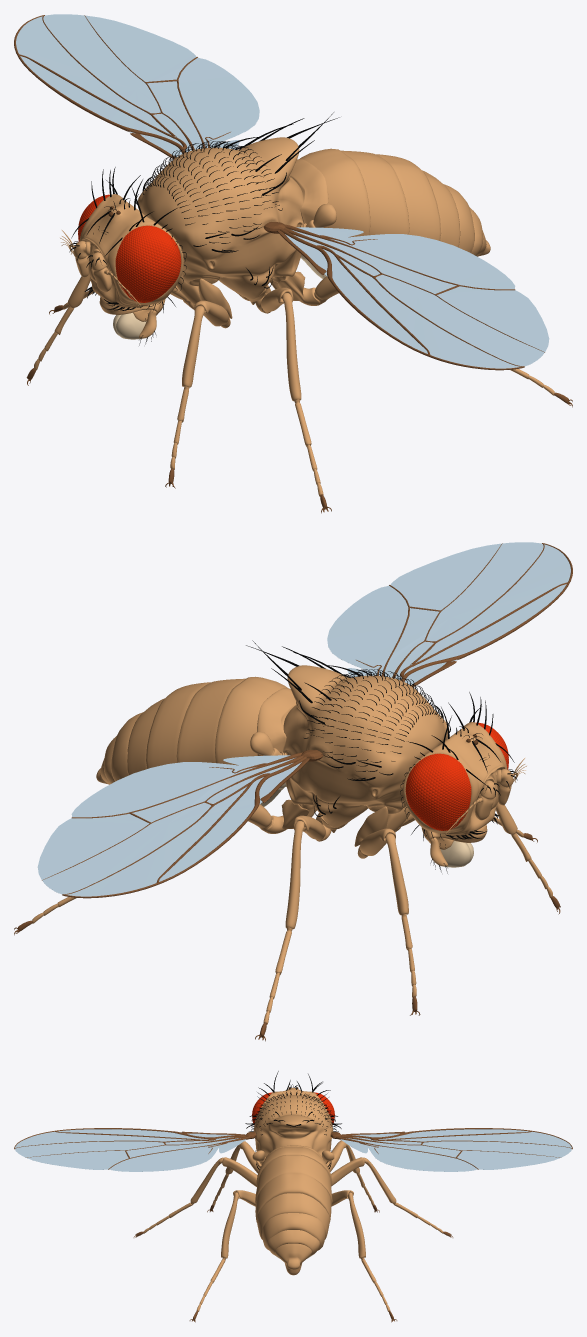
Rendered from flybody-articulated-presentation_4068d305.glb.
3 views of the same model, one above another, from view 1: azimuth 30°, elevation 25°; view 2: azimuth 150°, elevation 25°; view 3: azimuth 270°, elevation 25° (orthographic). The views are drawn at different scales.
Visible parts, largest first — view 1: fb__wing_left, fb__wing_right, fb__thorax, fb__head, fb__abdomen_2, fb__abdomen_3, fb__abdomen_4, fb__abdomen_1, fb__abdomen_5, fb__tibia_T2_left, fb__tibia_T1_left, fb__abdomen_6 (+3 smaller); view 2: fb__wing_right, fb__wing_left, fb__thorax, fb__head, fb__abdomen_2, fb__abdomen_3, fb__abdomen_4, fb__abdomen_1, fb__abdomen_5, fb__tibia_T2_right, fb__abdomen_6, fb__tibia_T1_right (+5 smaller); view 3: fb__wing_left, fb__wing_right, fb__thorax, fb__abdomen_4, fb__abdomen_5, fb__abdomen_3, fb__abdomen_6, fb__head, fb__abdomen_7, fb__abdomen_8, fb__abdomen_2, fb__tibia_T3_left (+3 smaller).
Boxes of the visible parts, <box> form: fb__wing_left: <box>263,222,549,370</box>; fb__wing_right: <box>14,14,259,159</box>; fb__thorax: <box>136,112,339,299</box>; fb__head: <box>71,167,186,312</box>; fb__abdomen_2: <box>299,148,370,278</box>; fb__abdomen_3: <box>341,150,409,235</box>; fb__abdomen_4: <box>376,154,441,240</box>; fb__abdomen_1: <box>290,159,328,260</box>; fb__abdomen_5: <box>422,170,460,247</box>; fb__tibia_T2_left: <box>282,293,301,401</box>; fb__tibia_T1_left: <box>182,306,204,387</box>; fb__abdomen_6: <box>443,184,474,252</box>; fb__wing_right: <box>37,750,323,898</box>; fb__wing_left: <box>327,542,572,687</box>; fb__thorax: <box>246,640,450,827</box>; fb__head: <box>400,692,514,840</box>; fb__abdomen_2: <box>215,676,287,806</box>; fb__abdomen_3: <box>176,678,245,762</box>; fb__abdomen_4: <box>146,682,210,768</box>; fb__abdomen_1: <box>257,688,296,789</box>; fb__abdomen_5: <box>127,698,164,775</box>; fb__tibia_T2_right: <box>285,821,304,929</box>; fb__abdomen_6: <box>111,712,143,781</box>; fb__tibia_T1_right: <box>385,833,408,915</box>; fb__wing_left: <box>14,1128,256,1171</box>; fb__wing_right: <box>330,1128,572,1171</box>; fb__thorax: <box>245,1091,341,1169</box>; fb__abdomen_4: <box>255,1173,331,1222</box>; fb__abdomen_5: <box>256,1193,329,1239</box>; fb__abdomen_3: <box>255,1155,332,1205</box>; fb__abdomen_6: <box>262,1213,325,1258</box>; fb__head: <box>252,1071,334,1123</box>; fb__abdomen_7: <box>267,1230,319,1255</box>; fb__abdomen_8: <box>275,1243,311,1275</box>; fb__abdomen_2: <box>256,1146,332,1186</box>; fb__tibia_T3_left: <box>221,1192,239,1258</box>.
Bounding box in the file's own units: 3.01 × 1.86 × 6.12.
